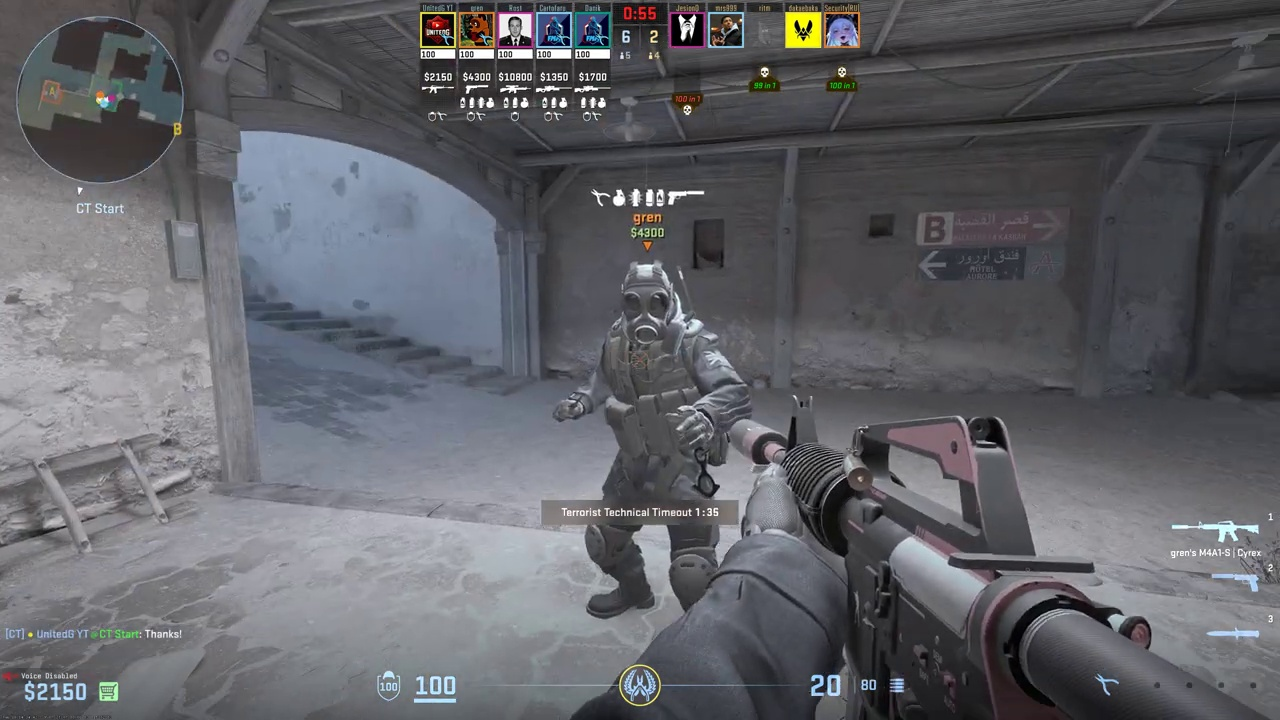CT: (589, 264, 740, 619)
